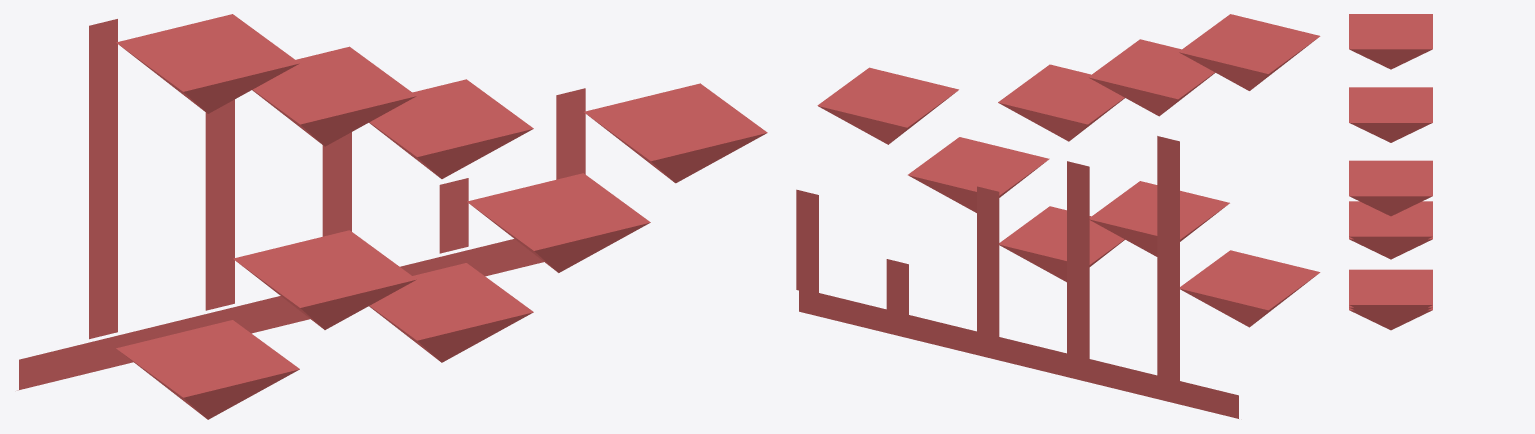
Rendered from rc_dorifu0.glb.
The picture shows the model from 3 angles, left to right: view 1: azimuth 30°, elevation 25°; view 2: azimuth 150°, elevation 25°; view 3: azimuth 270°, elevation 25°; orthographic projection. The views are drawn at different scales.
Visible parts, largest first — view 1: rc_dorifu0_col; view 2: rc_dorifu0_col; view 3: rc_dorifu0_col.
Part boxes in pixels (x1,y1,x2,y2): rc_dorifu0_col: [17, 14, 767, 419]; rc_dorifu0_col: [796, 14, 1320, 418]; rc_dorifu0_col: [1349, 14, 1432, 330].
Bounding box in the file's own units: 2.12 × 1.28 × 0.82.
